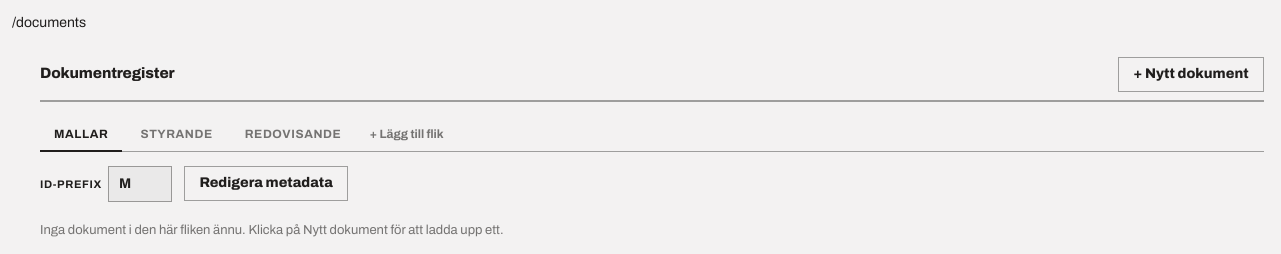
Test case: the ID prefix, per tab › defaults each stock tab to its own prefix
Expected: the field labelled "ID-prefix" holds "M", [108,166,172,202]
Click the tab "Styrande" at (177, 135), box [126,118,227,152]
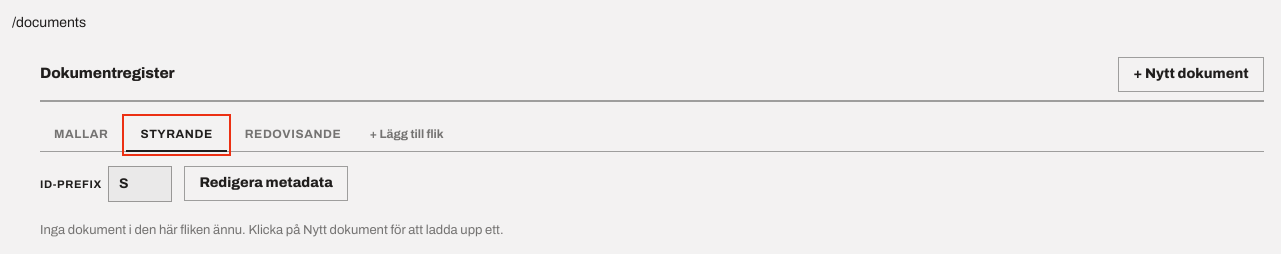
Now the field labelled "ID-prefix" holds "S", box [108,166,172,202]
Click the tab "Redovisande" at (293, 135), box [231,118,355,152]
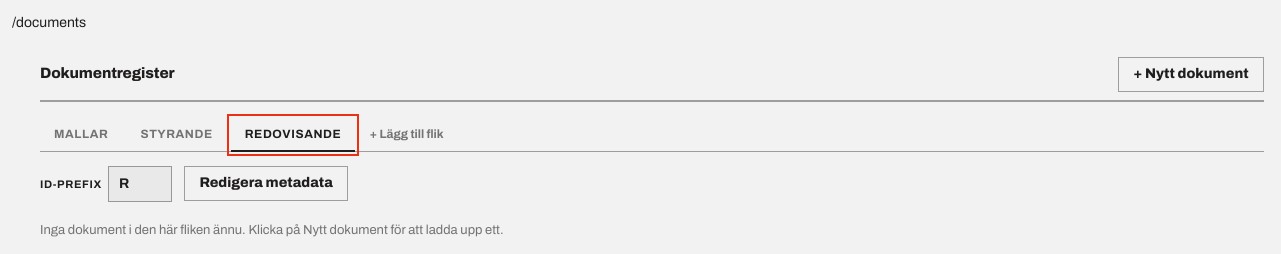
Now the field labelled "ID-prefix" holds "R", box [108,166,172,202]
